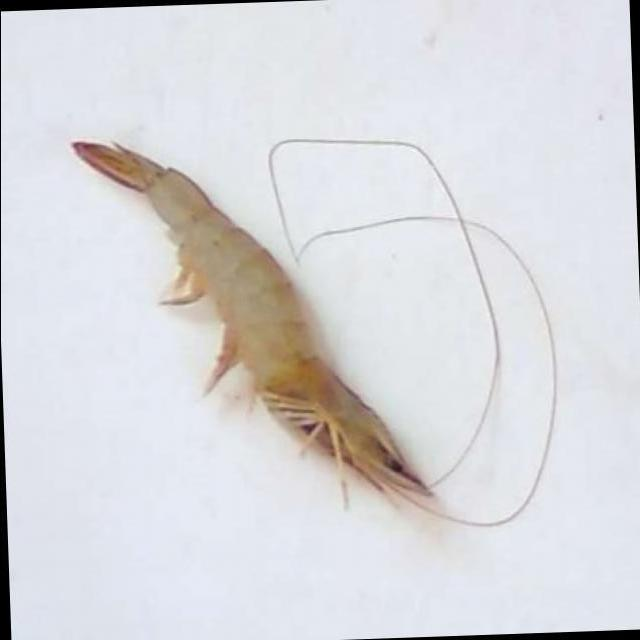shrimp: (73, 143, 430, 504)
